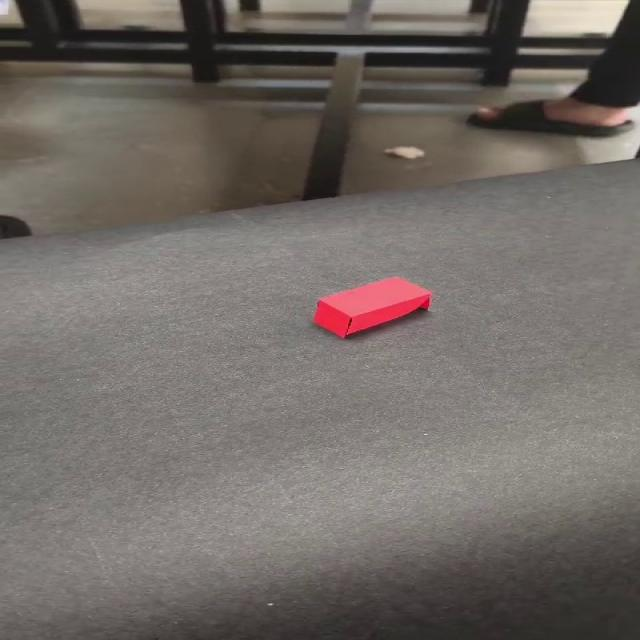red block: (311, 276, 432, 338)
